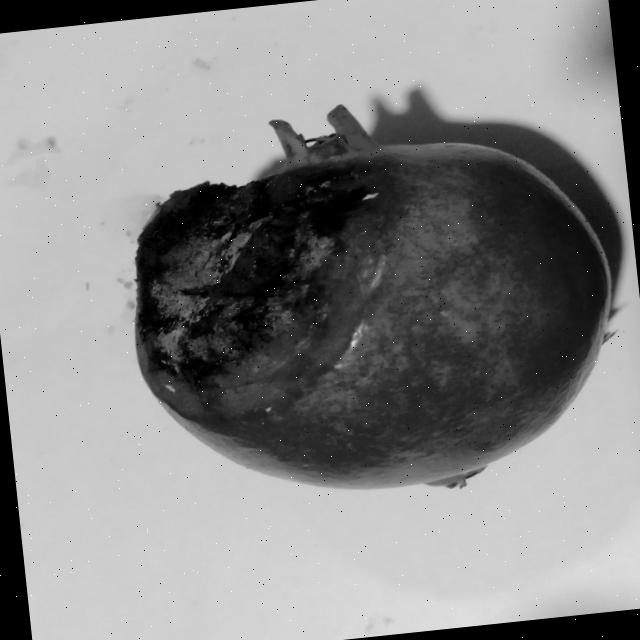Rotten: (108, 76, 634, 518)
